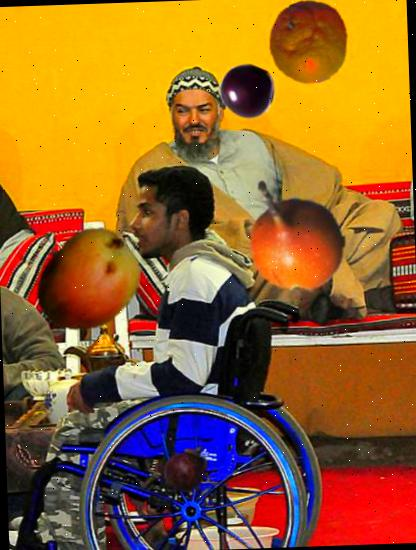Cherry: (219, 62, 276, 120)
Granadilla: (238, 177, 358, 296)
Mandarine: (265, 0, 352, 86)
Mangostan: (160, 441, 214, 495)
Papaya: (30, 223, 146, 339)
